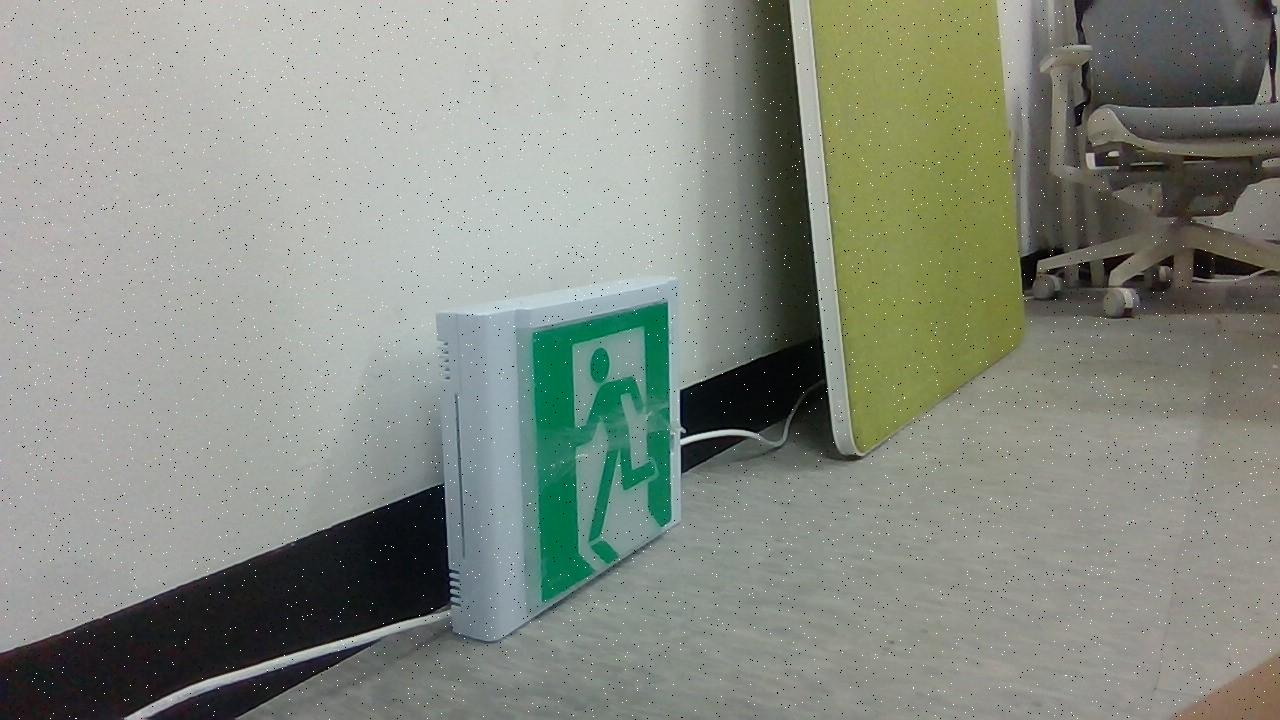emergency_exit: (787, 0, 1028, 459), (434, 277, 683, 643)
